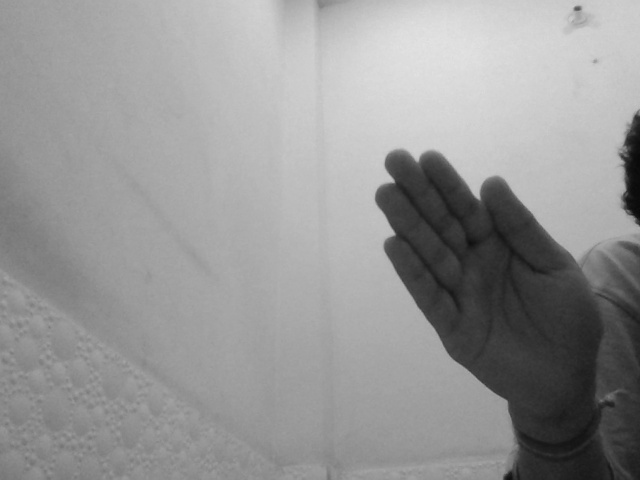Hello: (370, 145, 606, 420)
